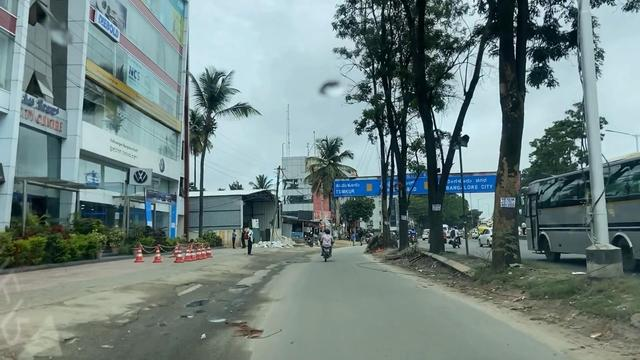RoadDamages: (173, 289, 262, 347)
